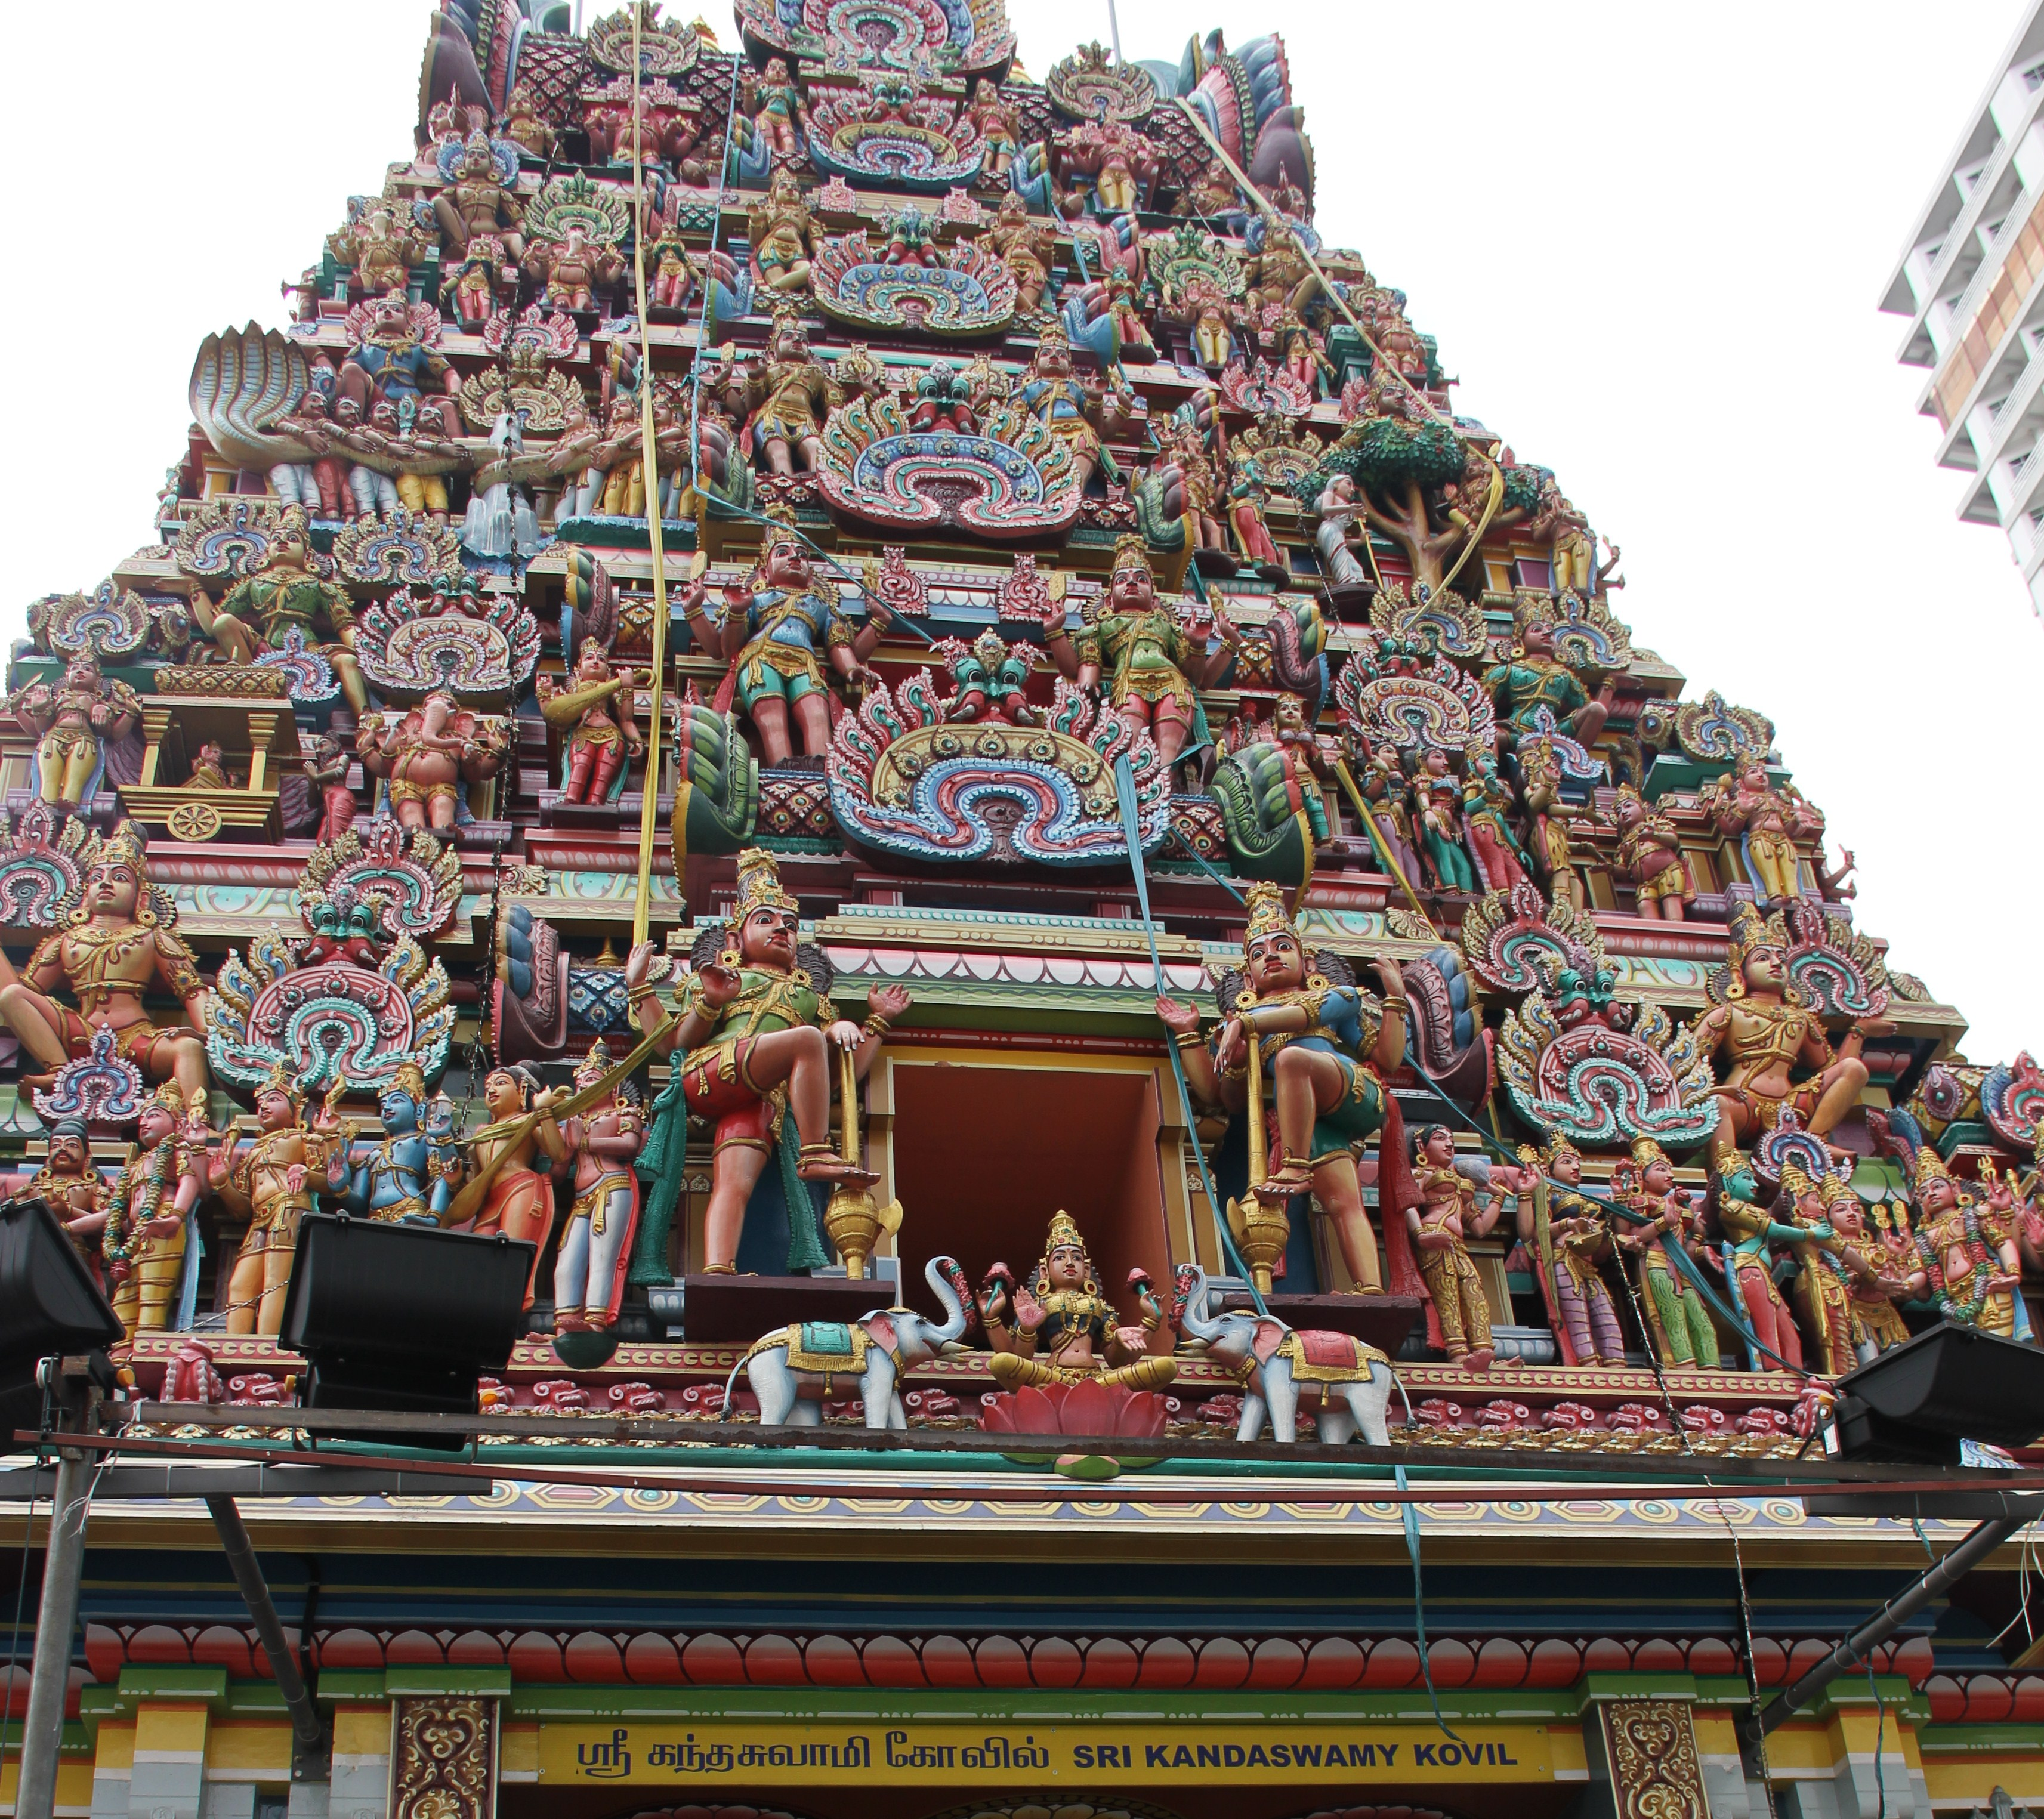Hindu Temple: (0, 0, 2039, 1535)
